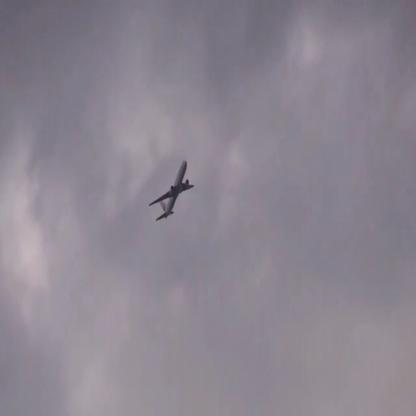CIV_Plane: (150, 161, 197, 221)
